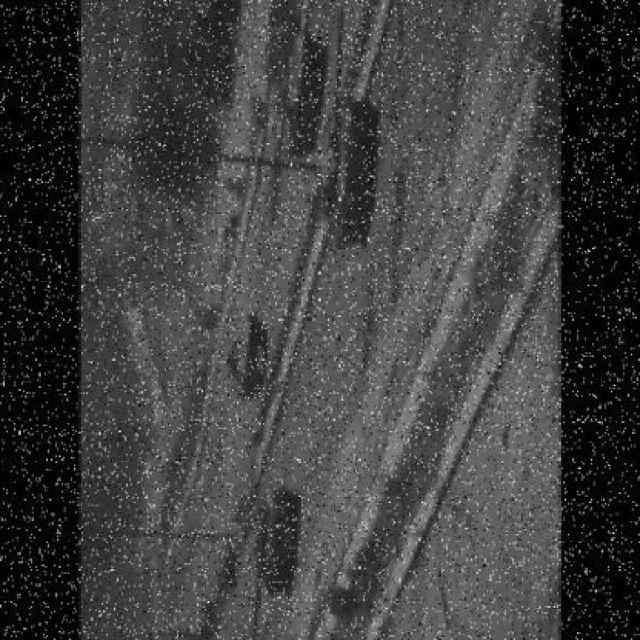Tank: (312, 10, 384, 261), (257, 19, 331, 197), (237, 478, 308, 639), (219, 293, 276, 420)
